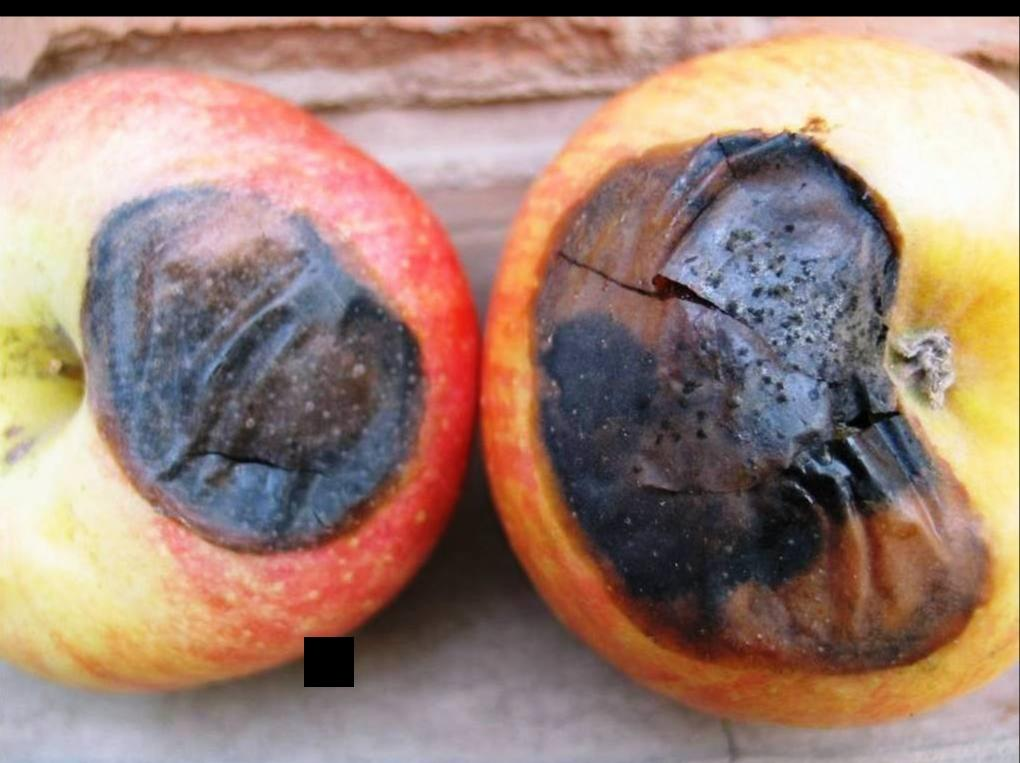rotten apple: (467, 27, 1019, 727), (2, 63, 471, 708)
